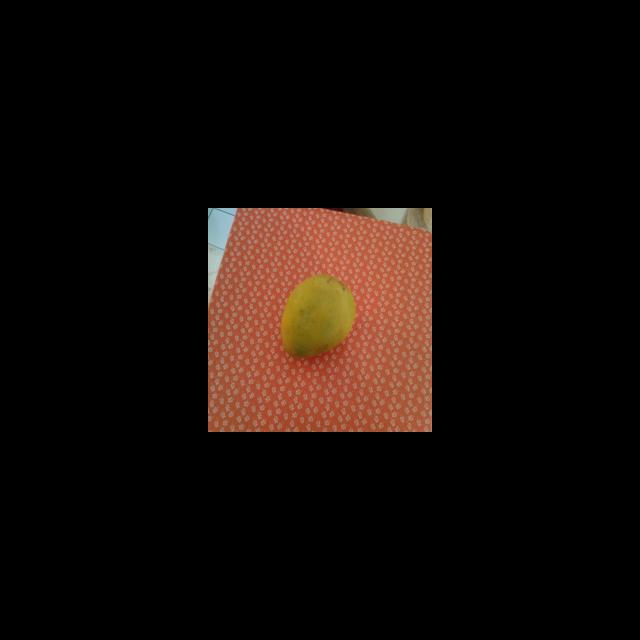Mango: (208, 208, 431, 431), (279, 273, 356, 358)
